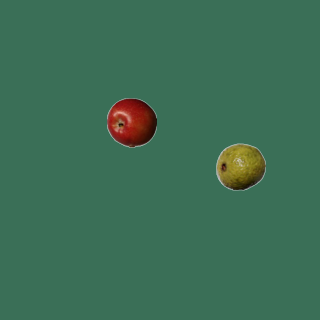Apple Braeburn: (106, 97, 156, 147)
Guava: (215, 141, 265, 191)
